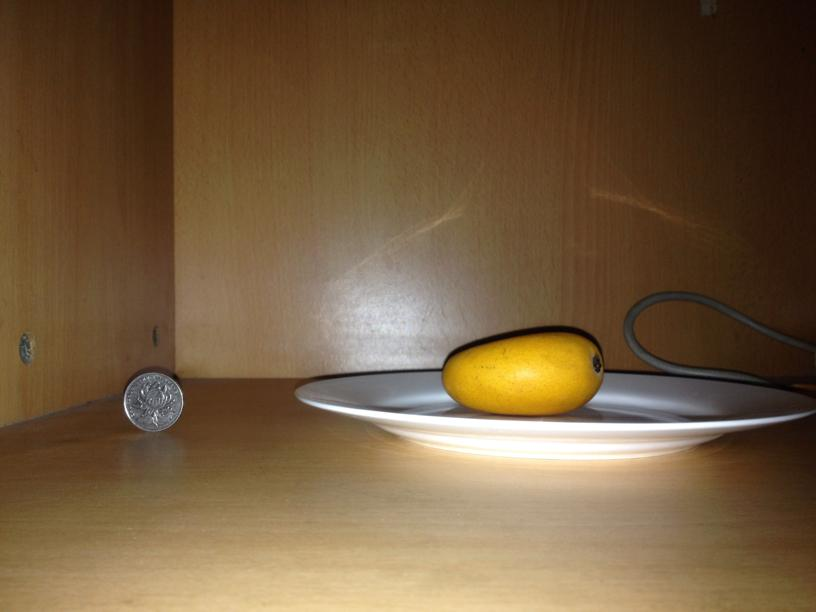coin: (123, 373, 186, 434)
mango: (442, 329, 603, 418)
